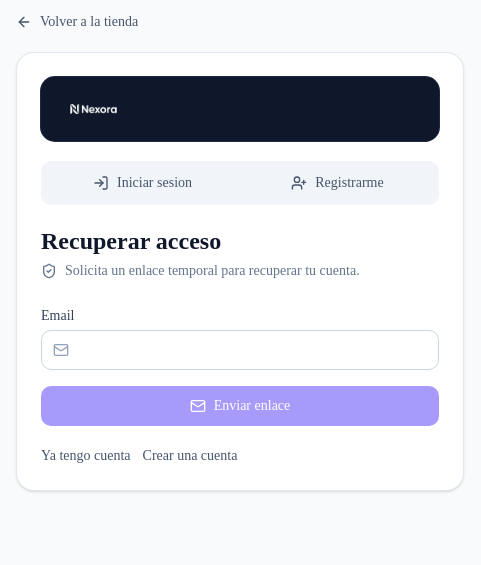
Test: LoginForm › shows email success path for forgot-password responses
Type "ada@example.com" into the field labelled "Email". click: x=240, y=350
box: [41,330,439,370]
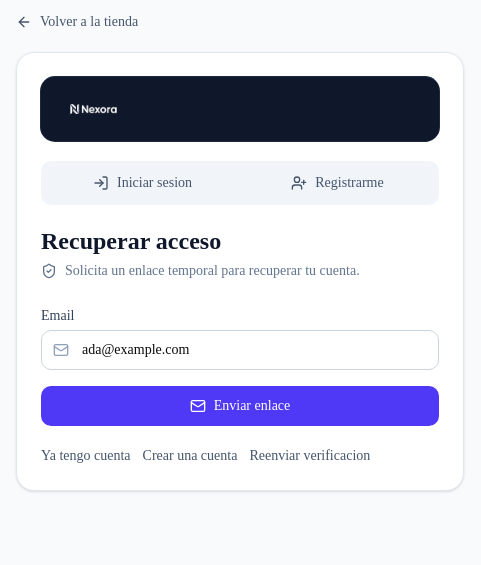
Submit the form "Enviar enlace", box [41,306,439,426]
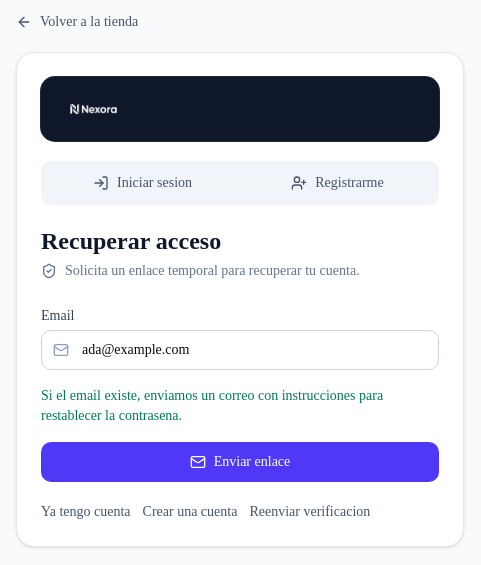
Check: the text "enviamos un correo con instrucciones" is shown, box [41,388,383,423]
